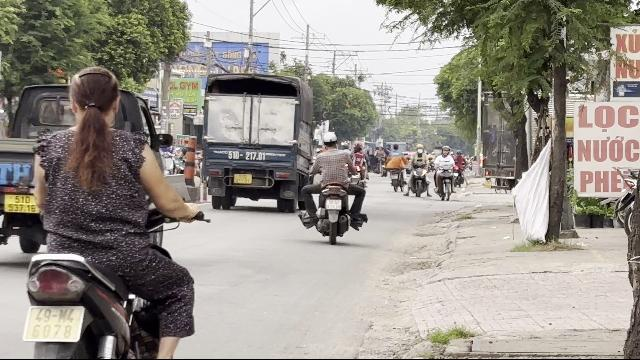helmet: (321, 131, 337, 148)
licenseplate: (24, 306, 84, 342), (326, 199, 340, 209)
motorcyclist: (8, 65, 210, 354), (299, 130, 366, 243)
nohelmet: (67, 67, 123, 131)
